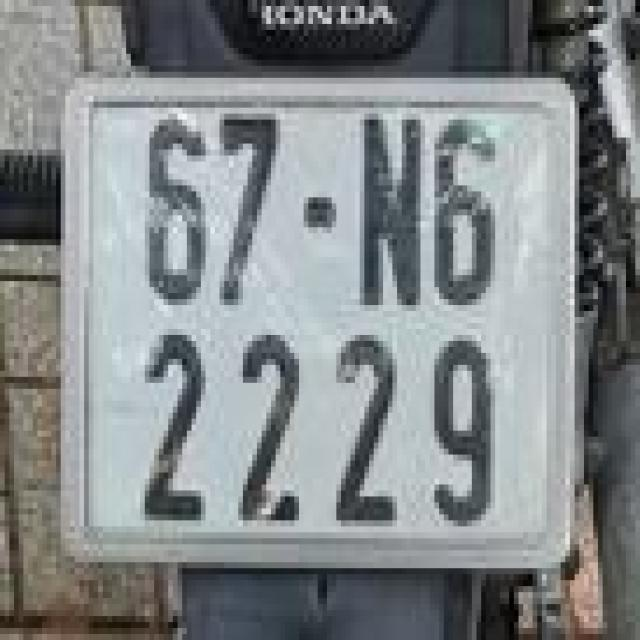2: (135, 326, 215, 529), (327, 329, 406, 532), (231, 326, 306, 529)
6: (142, 114, 212, 311), (432, 108, 498, 311)
7: (217, 108, 283, 311)
9: (423, 329, 507, 526)
N: (358, 105, 428, 320)
